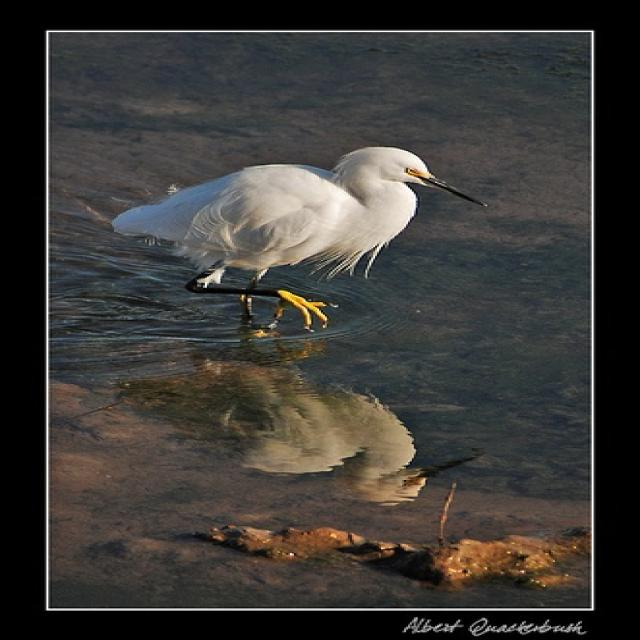bird: (108, 147, 491, 336), (115, 357, 486, 508)
